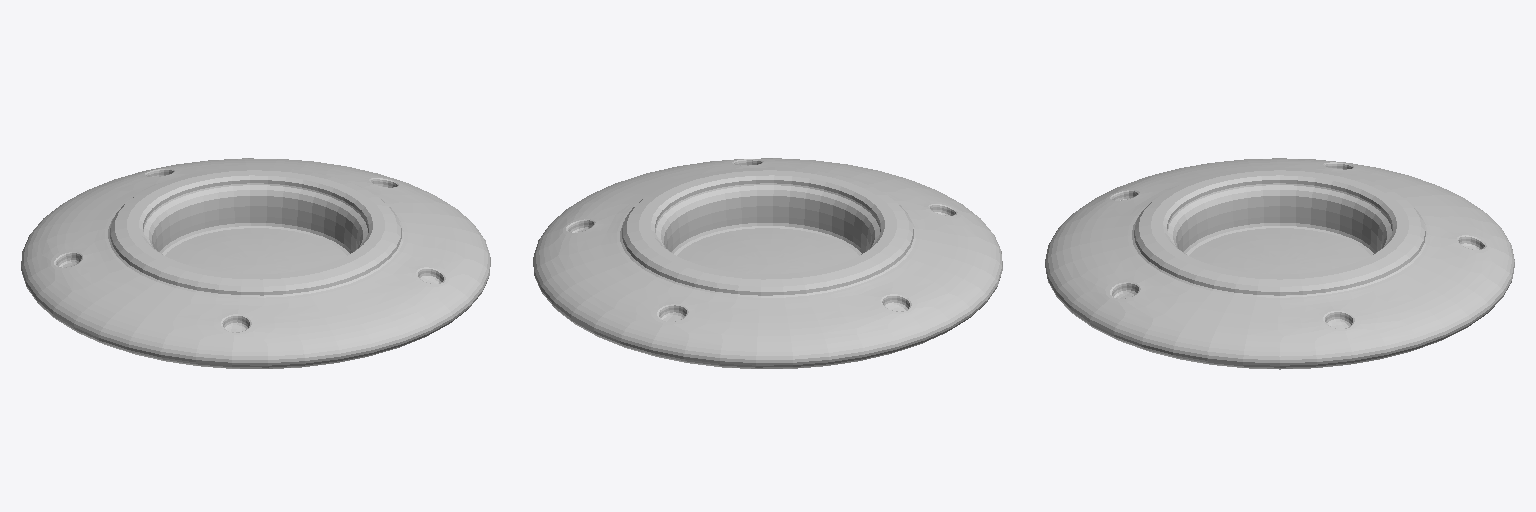
Rendered from UfoShip.obj.
The picture shows the model from 3 angles: view 1: azimuth 30°, elevation 25°; view 2: azimuth 150°, elevation 25°; view 3: azimuth 270°, elevation 25°; orthographic projection.
Visible parts, largest first — view 1: Schiff_untouched Ufo_detaillierter; view 2: Schiff_untouched Ufo_detaillierter; view 3: Schiff_untouched Ufo_detaillierter.
Part boxes in pixels (x1,y1,x2,y2): Schiff_untouched Ufo_detaillierter: (21, 158, 490, 368); Schiff_untouched Ufo_detaillierter: (533, 158, 1002, 368); Schiff_untouched Ufo_detaillierter: (1045, 158, 1514, 369).
Bounding box in the file's own units: 8.05 × 1.17 × 8.05.